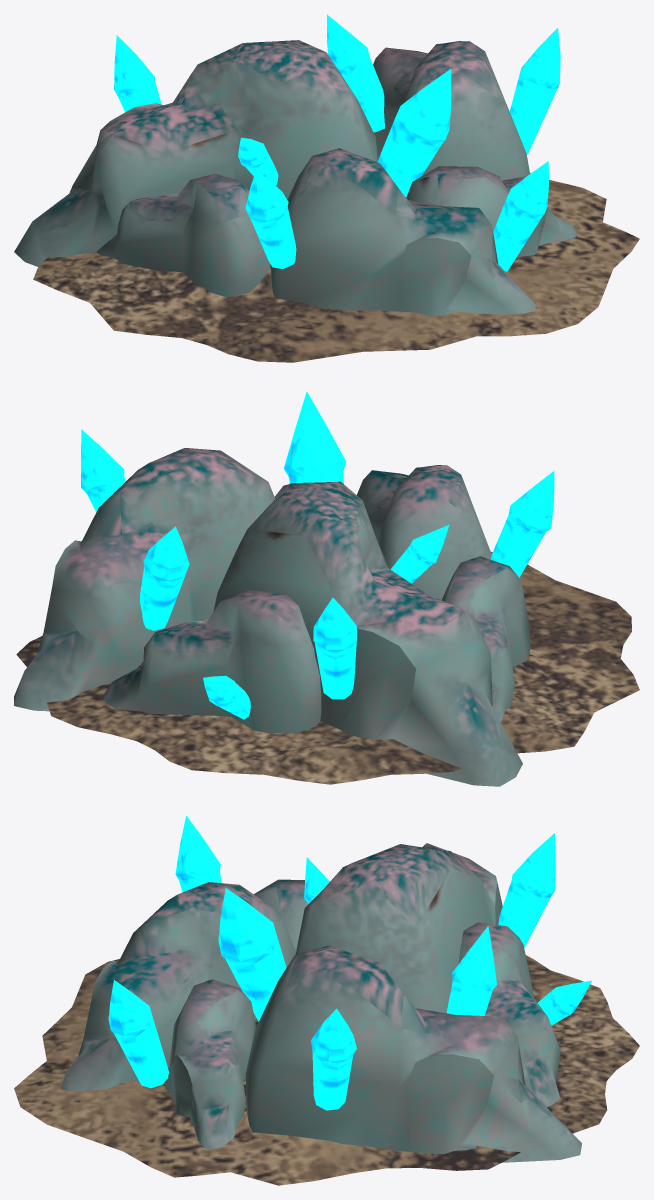
The model's file is Deposit-Orbium.fbx.
3 views of the same model, one above another, from view 1: azimuth 30°, elevation 25°; view 2: azimuth 150°, elevation 25°; view 3: azimuth 270°, elevation 25° (orthographic). The views are drawn at different scales.
Visible parts, largest first — view 1: Deposit-Orbium; view 2: Deposit-Orbium; view 3: Deposit-Orbium.
Boxes of the visible parts, bbox=[...] form: Deposit-Orbium: bbox=[14, 14, 639, 362]; Deposit-Orbium: bbox=[14, 391, 639, 786]; Deposit-Orbium: bbox=[14, 816, 639, 1185].
Size of the model in its own units: 3.06 by 1.15 by 3.03.
